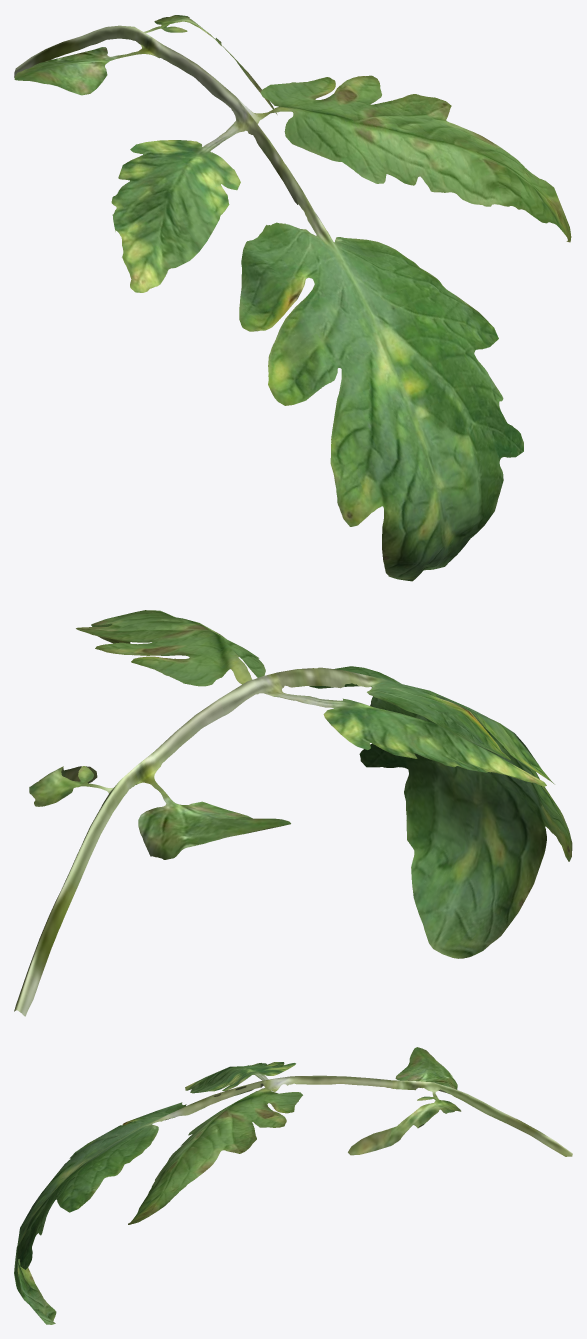
File: Branch_01.fbx
3 views of the same model, one above another, from view 1: azimuth 30°, elevation 25°; view 2: azimuth 150°, elevation 25°; view 3: azimuth 270°, elevation 25° (orthographic). The views are drawn at different scales.
Parts seen in each view (by area): view 1: Tomat1_Stvol.001; view 2: Tomat1_Stvol.001; view 3: Tomat1_Stvol.001.
Part boxes in pixels (<box>): Tomat1_Stvol.001: <box>14,15,571,581</box>; Tomat1_Stvol.001: <box>14,610,572,1016</box>; Tomat1_Stvol.001: <box>14,1047,572,1324</box>.
Size of the model in its own units: 1295 by 1107 by 2273.
